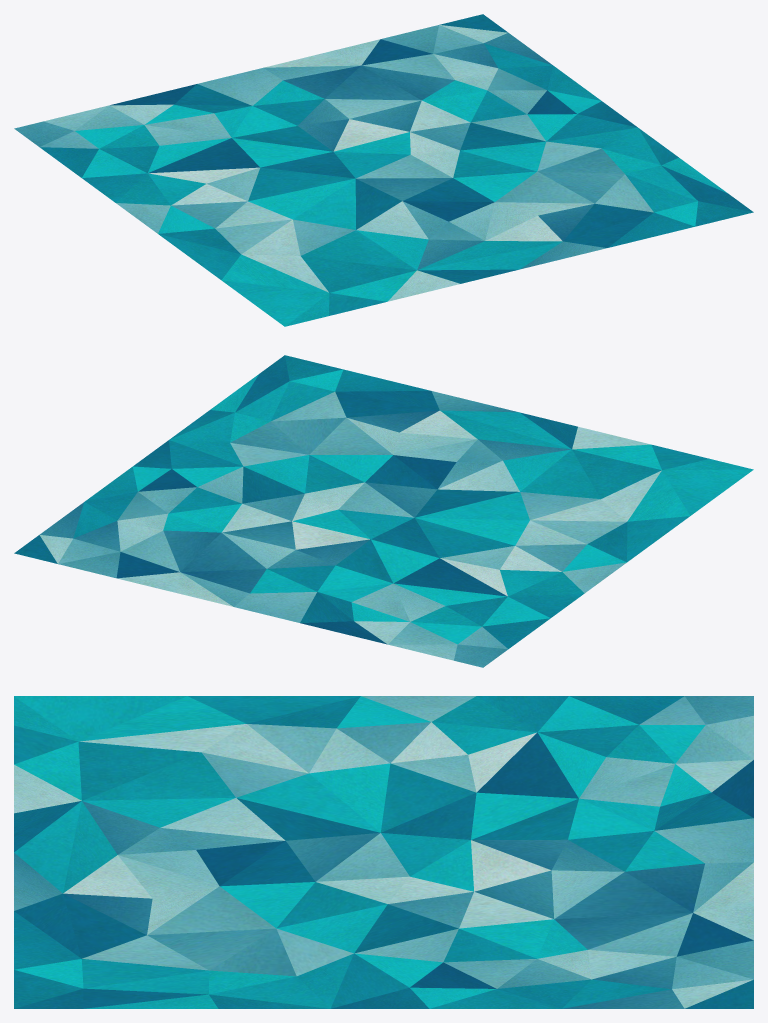
The model's file is Water-part-04.fbx.
3 renders of one model, top to bottom at view 1: azimuth 30°, elevation 25°; view 2: azimuth 150°, elevation 25°; view 3: azimuth 270°, elevation 25°, orthographic. The views are drawn at different scales.
Visible parts, largest first — view 1: Water-part-04; view 2: Water-part-04; view 3: Water-part-04.
Part boxes in pixels (x1,y1,x2,y2): Water-part-04: (14,14,753,326); Water-part-04: (14,355,753,667); Water-part-04: (14,696,753,1008).
Bounding box in the file's own units: 6 × 0 × 6.
